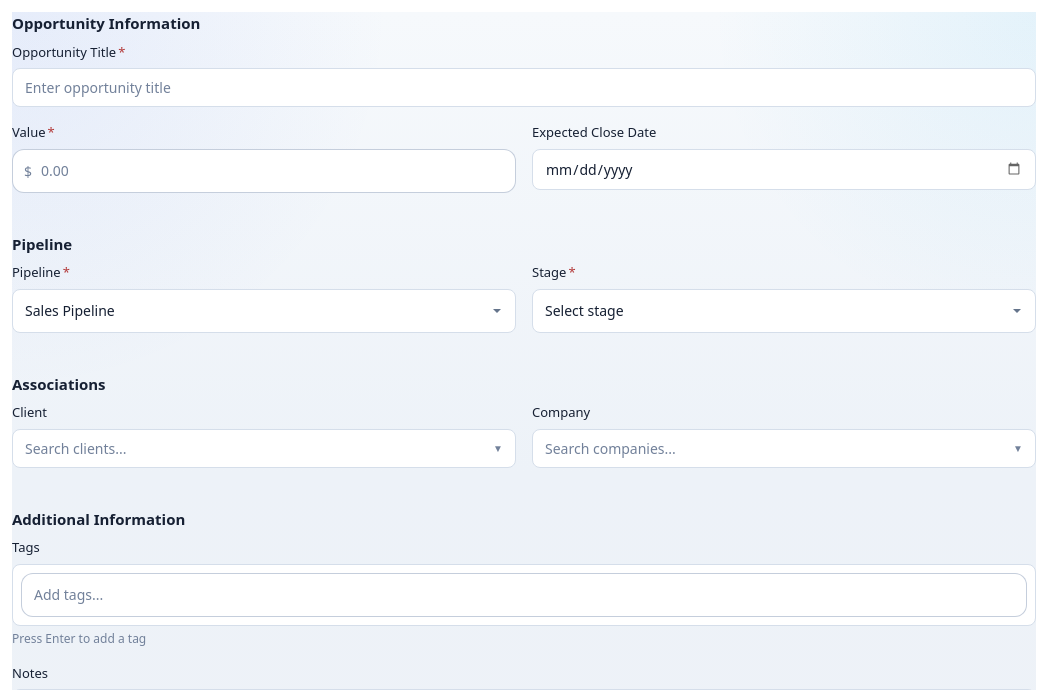
DealForm › updates probability when stage is selected
# Select pipeline
Select "Sales Pipeline" in the dropdown labelled "Pipeline*" at (264, 310), box [12,288,516,332]
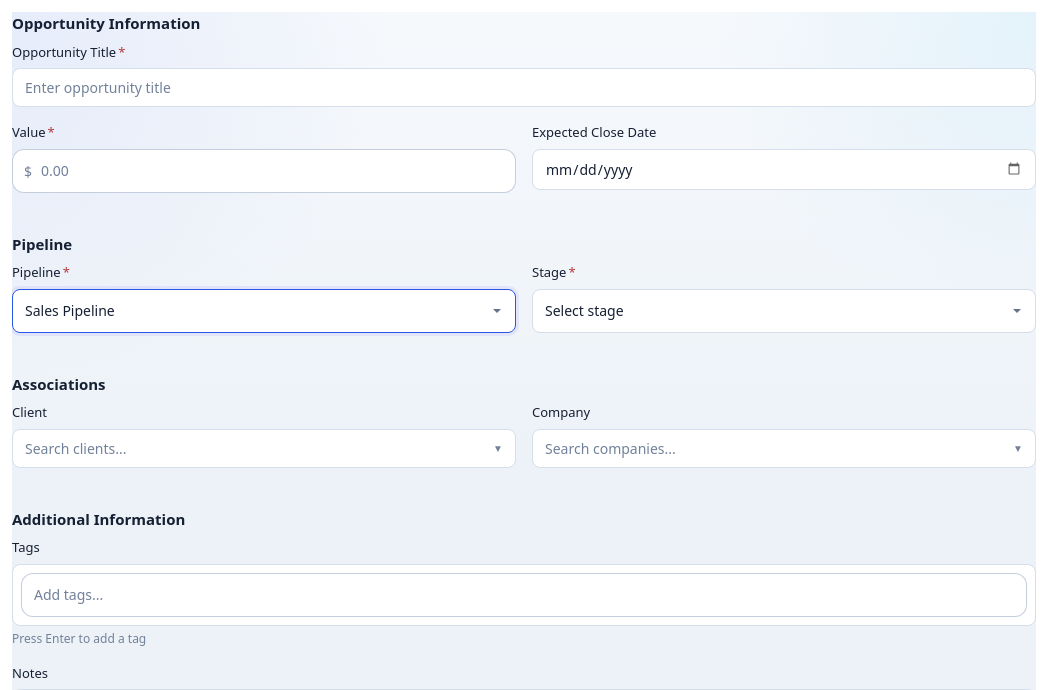
# Select stage with 50% probability
Select "Qualified (50%)" in the dropdown labelled "Stage*" at (784, 310), box [532,288,1036,332]
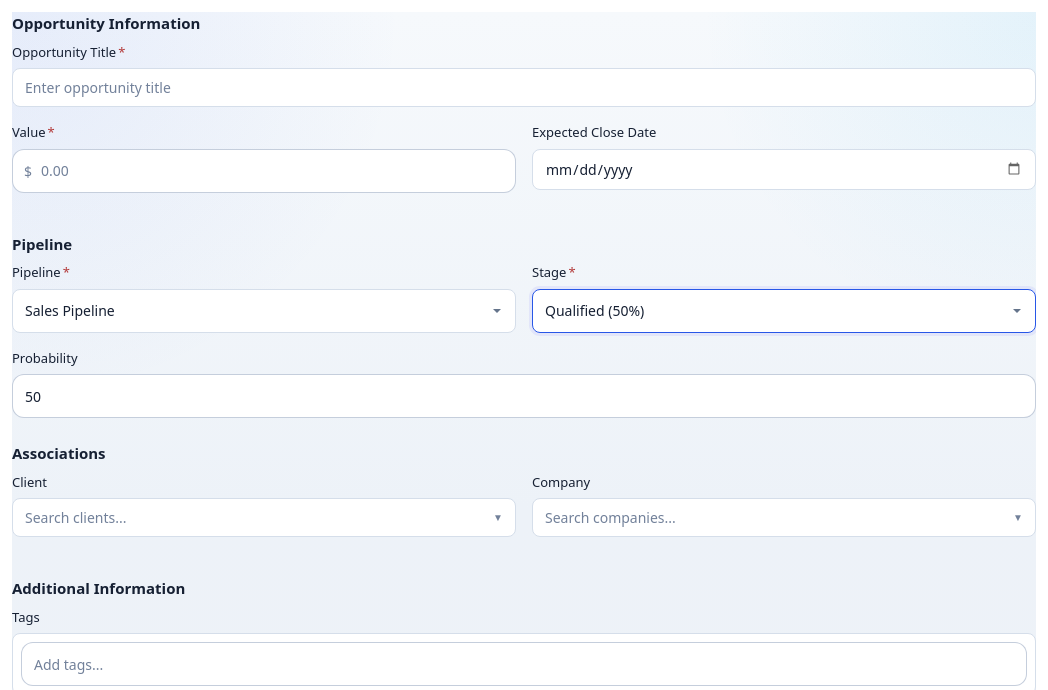
Expected: the number field labelled "Probability" holds "50", [12,374,1036,418]
